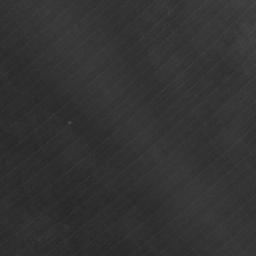Target: (66, 119, 73, 125)
